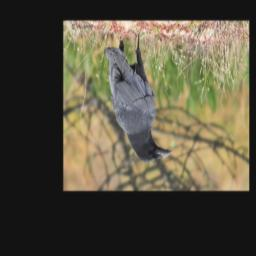Crow: (104, 31, 172, 163)
